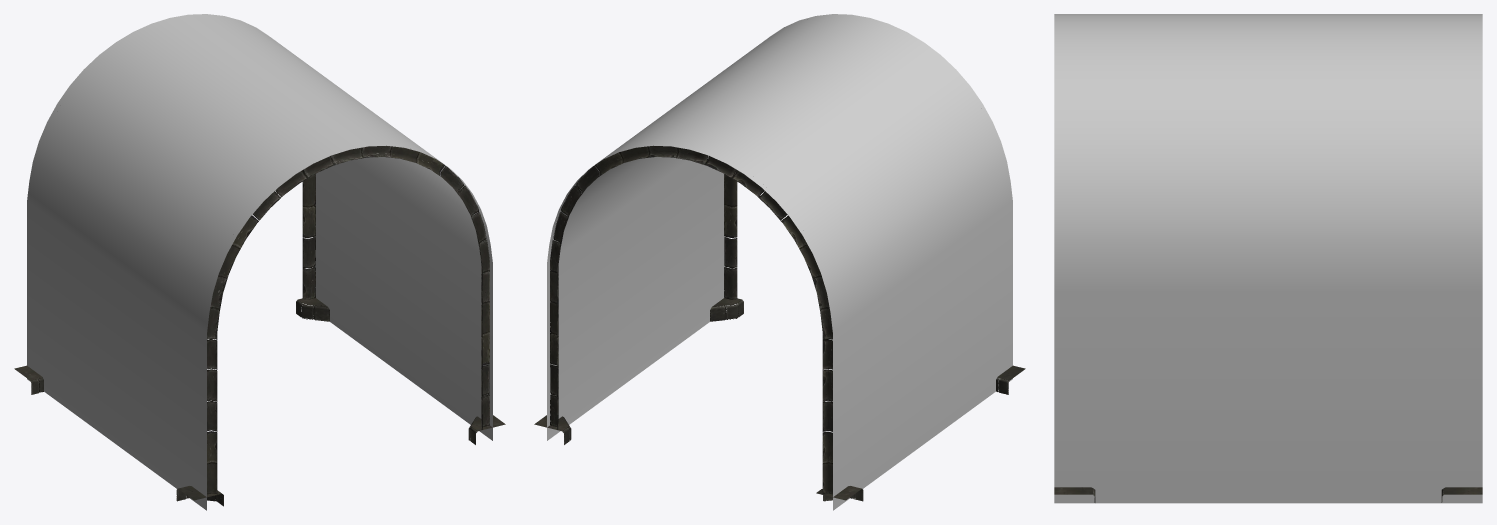
The picture shows the model from 3 angles, left to right: view 1: azimuth 30°, elevation 25°; view 2: azimuth 150°, elevation 25°; view 3: azimuth 270°, elevation 25°; orthographic projection. The views are drawn at different scales.
Visible parts, largest first — view 1: SM_Dowdun_Vaulted_Tunnel_12x12_01_LOD0; view 2: SM_Dowdun_Vaulted_Tunnel_12x12_01_LOD0; view 3: SM_Dowdun_Vaulted_Tunnel_12x12_01_LOD0.
Boxes of the visible parts, <box> form: SM_Dowdun_Vaulted_Tunnel_12x12_01_LOD0: <box>14,14,505,510</box>; SM_Dowdun_Vaulted_Tunnel_12x12_01_LOD0: <box>534,14,1025,510</box>; SM_Dowdun_Vaulted_Tunnel_12x12_01_LOD0: <box>1054,14,1482,503</box>.
Size of the model in its own units: 12 by 12 by 12.
